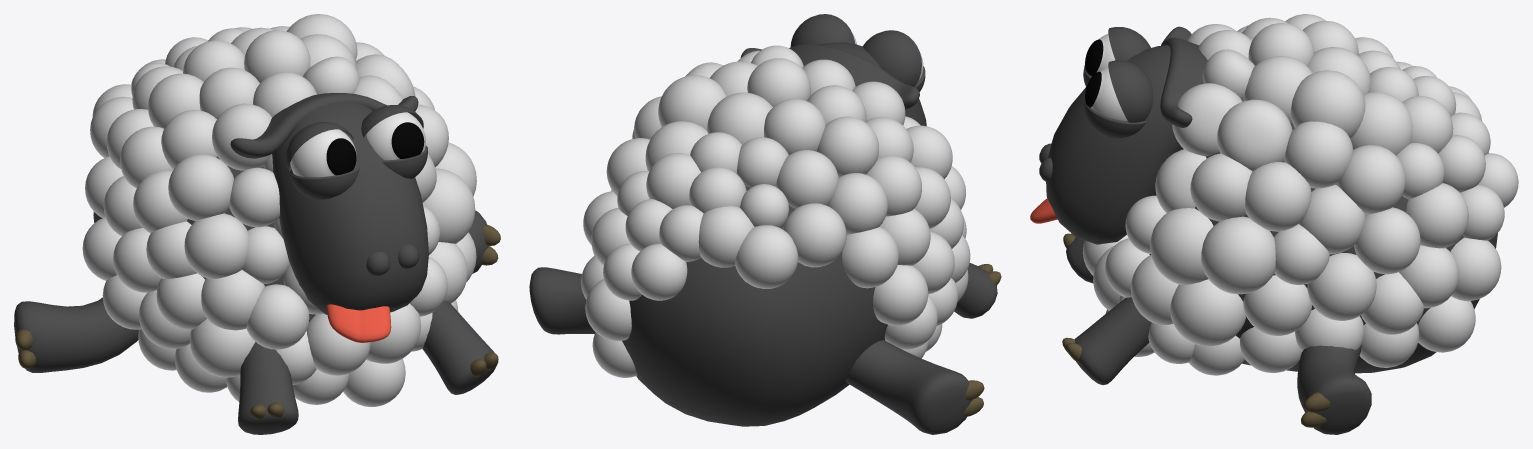
File: schnitzel-01.glb
3 views of the same model, side by side, from view 1: azimuth 30°, elevation 25°; view 2: azimuth 150°, elevation 25°; view 3: azimuth 270°, elevation 25° (orthographic). The views are drawn at different scales.
Visible parts, largest first — view 1: Wool, Head, Leg.003, Leg.002, Leg, Eye.R, Eye.L, Lid, Leg.001, Lid.002, Lid.003, Lid.001; view 2: Wool, Body, Leg.003, Leg.001, Head, Lid.002, Leg.002, Lid.001; view 3: Wool, Head, Leg.001, Leg, Lid.001, Body, Eye.L, Lid.003, Lid.002, Eye.R, Leg.002.
Boxes of the visible parts, x1,y1,x2,y2 form: Wool: (82,14,476,406); Head: (230,93,428,342); Leg.003: (14,297,138,372); Leg.002: (238,342,298,434); Leg: (422,300,498,394); Eye.R: (290,129,356,177); Eye.L: (366,112,425,160); Lid: (289,167,359,199); Leg.001: (468,210,500,273); Lid.002: (286,122,353,172); Lid.003: (382,146,427,178); Lid.001: (361,105,423,137); Wool: (581,45,970,377); Body: (622,186,887,426); Leg.003: (845,340,984,434); Leg.001: (529,267,595,334); Head: (740,42,926,126); Lid.002: (862,30,921,86); Leg.002: (954,263,1001,318); Lid.001: (790,14,855,46); Wool: (1082,14,1518,375); Head: (1030,26,1207,244); Leg.001: (1297,345,1371,434); Leg: (1062,297,1151,384); Lid.001: (1108,60,1153,122); Body: (1149,122,1497,373); Eye.L: (1085,67,1127,120); Lid.003: (1084,99,1146,138); Lid.002: (1108,27,1150,60); Eye.R: (1085,34,1115,76); Leg.002: (1063,233,1093,283).
Size of the model in its own units: 3.5 by 2.4 by 3.17.
